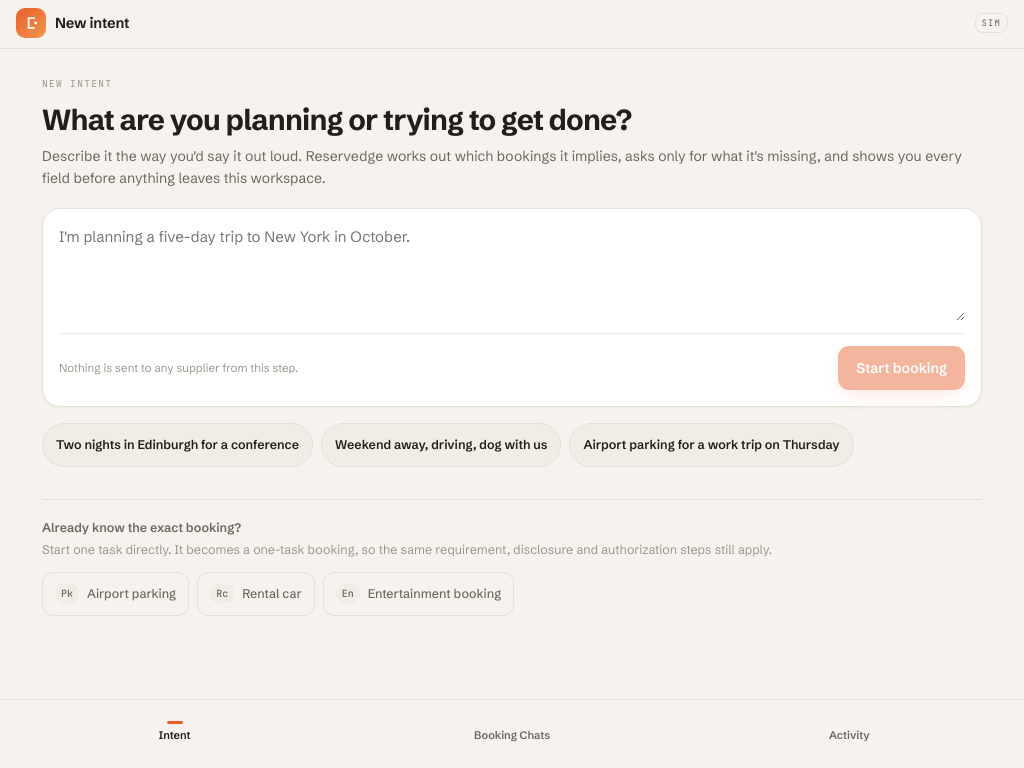
Scenario: intent-first React composer › applies a suggestion chip and leaves the text editable
The width and height of the screenshot is (1024, 768).
Click the button "Airport parking for a work trip on Thursday". click: x=712, y=445
box: [569,423,854,467]
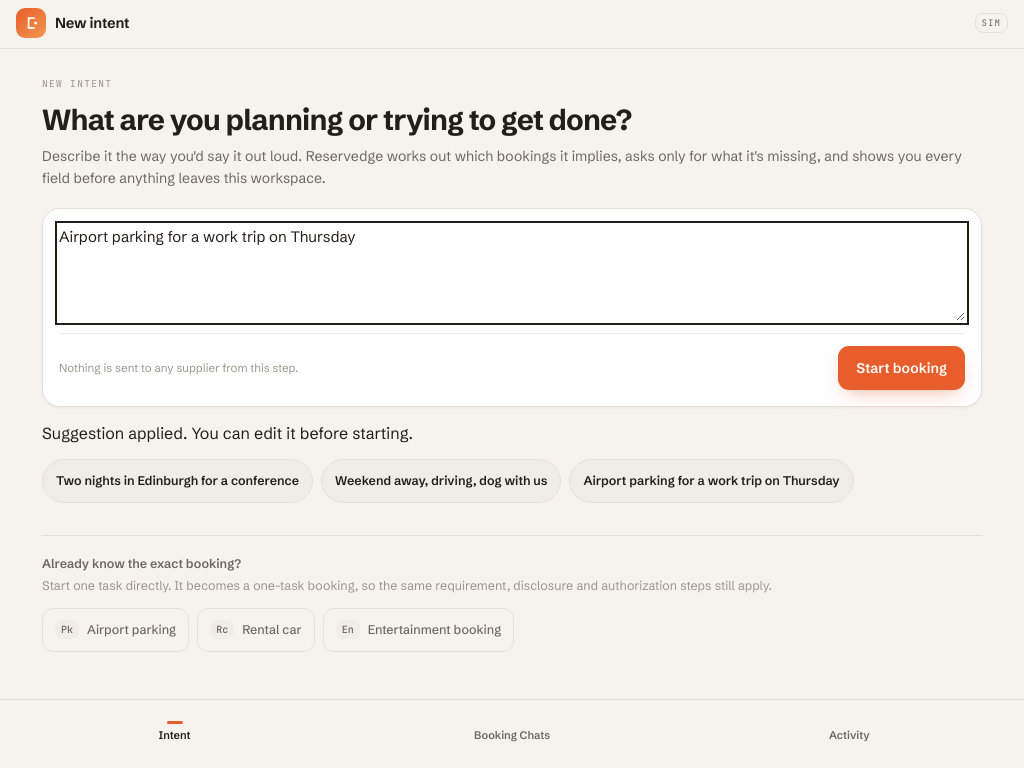
Check: the text box labelled "What are you planning or trying to get done?" holds "Airport parking for a work trip on Thursday"
Type " plus a compact" into the text box labelled "What are you planning or trying to get done?". click: x=512, y=273
box: [59,225,965,321]
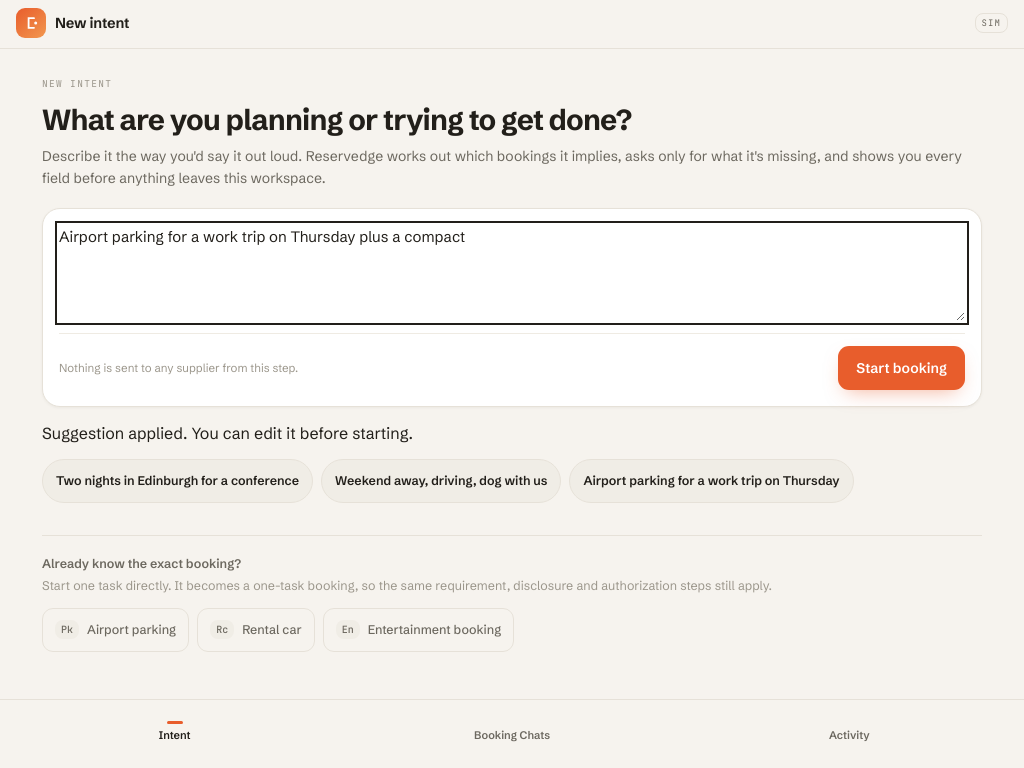
Check: the text "Suggestion applied. You can edit it before starting." is shown, box [42,423,413,443]
Check: the text box labelled "What are you planning or trying to get done?" holds "Airport parking for a work trip on Thursday plus a compact", box [59,225,965,321]
